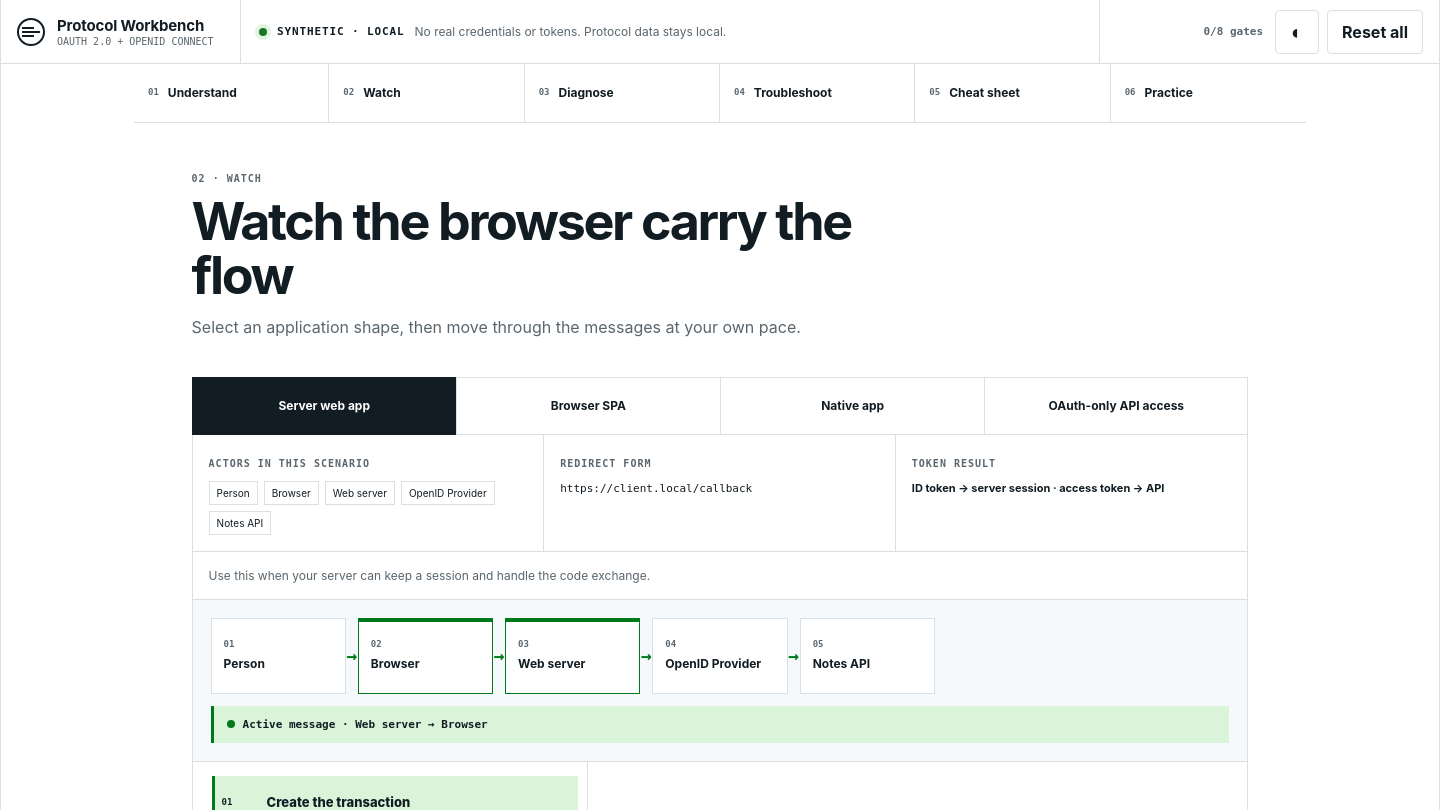
Protocol Workbench › switches scenario workflows and exposes learner-controlled steps
This screenshot has width=1440, height=810.
(page scrolled)
Click the tab "Native app" at {"x": 852, "y": 406}, box [720,377,984,435]
(page scrolled)
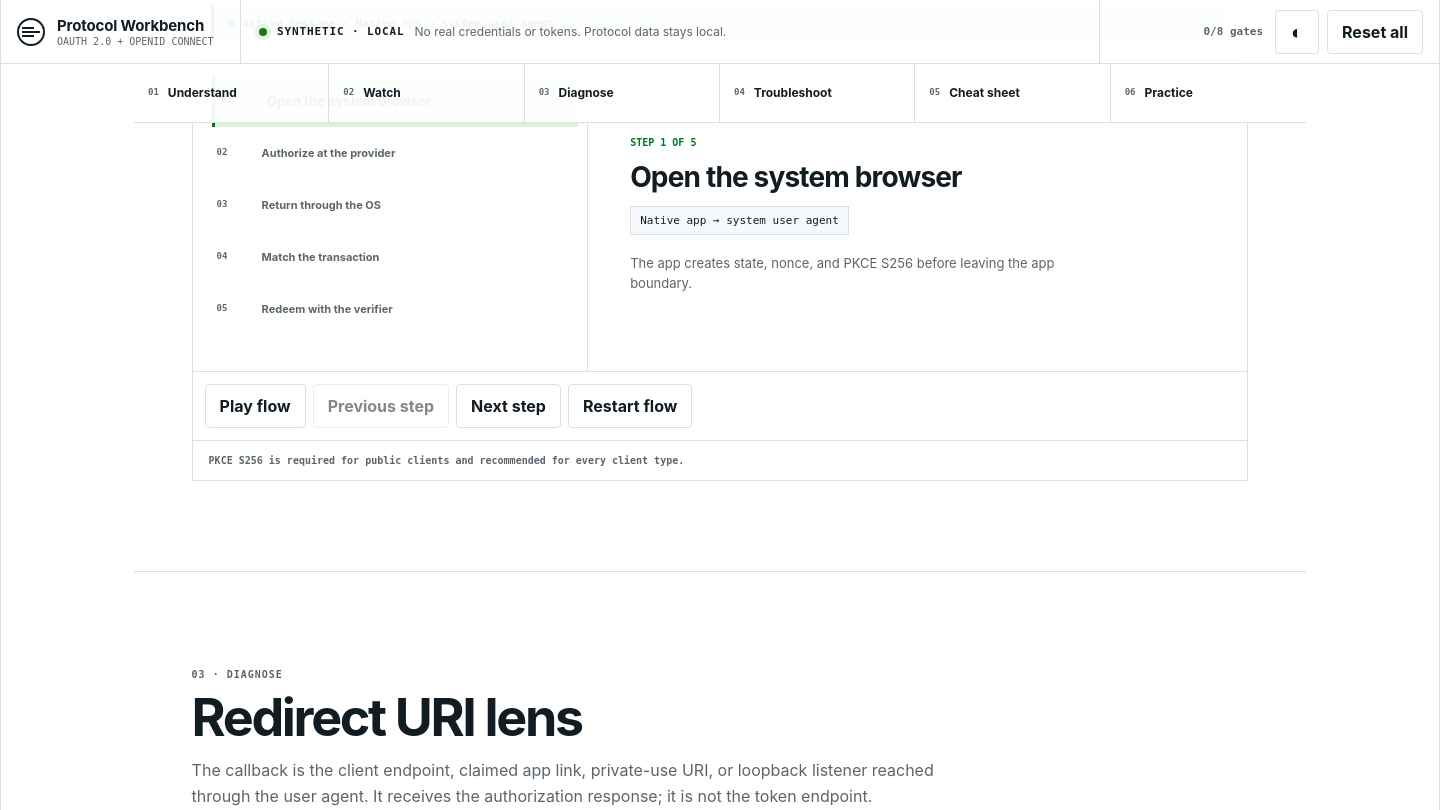
Expected: the message named "workflow step" shows "Step 1", [630,137,1054,292]
Click the button "Next step" at {"x": 508, "y": 406}, box [456,384,561,428]
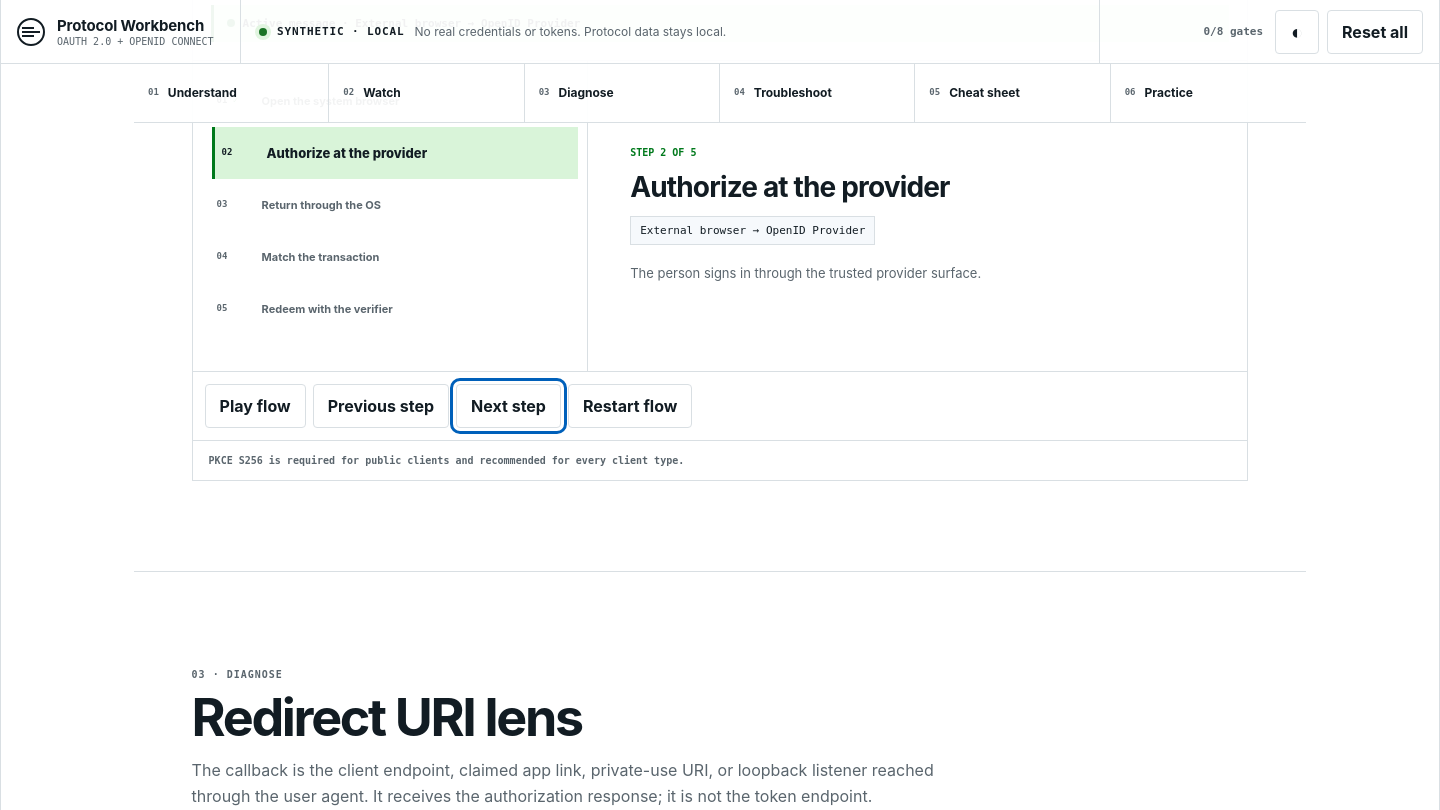
Expected: the message named "workflow step" shows "Step 2", [630,147,981,281]
Click the button "Restart flow" at {"x": 630, "y": 406}, box [568,384,692,428]
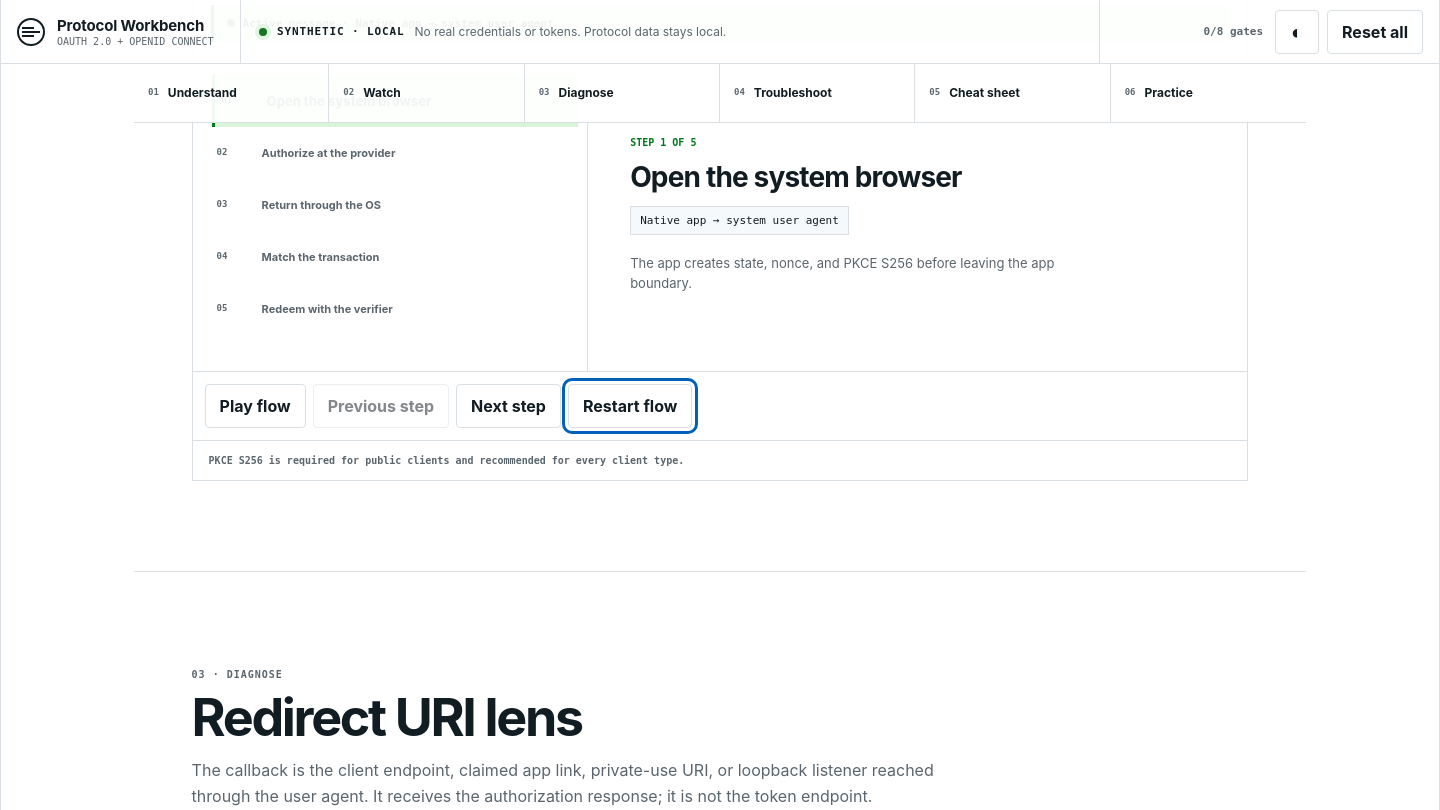
Expected: the message named "workflow step" shows "Step 1", [630,137,1054,292]
